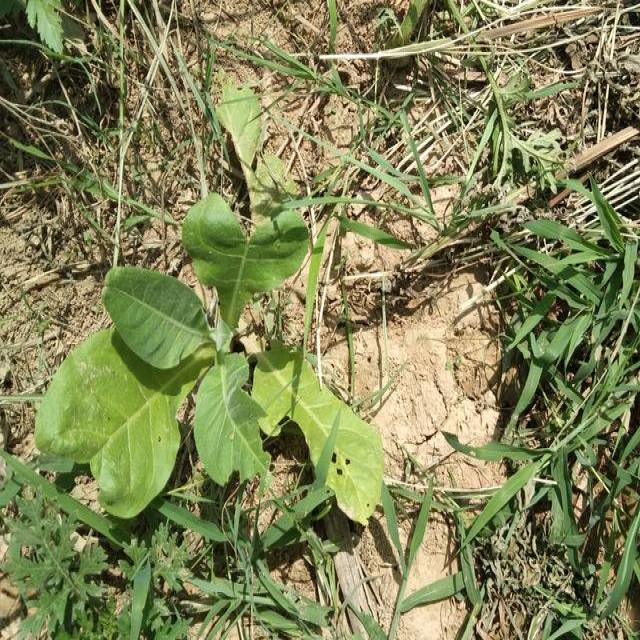crop: (67, 92, 368, 524)
